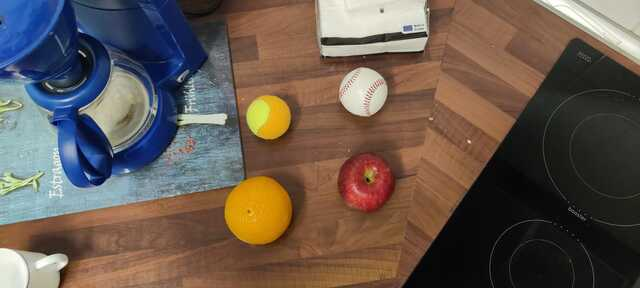013_apple: (336, 152, 400, 213)
017_orange: (223, 174, 295, 247)
055_baseball: (337, 65, 390, 118)
056_tennis_ball: (244, 92, 295, 141)
